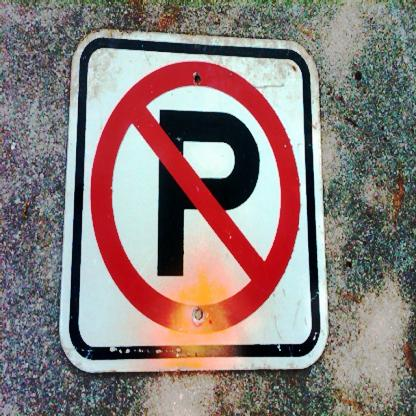No parking: (92, 61, 304, 339)
